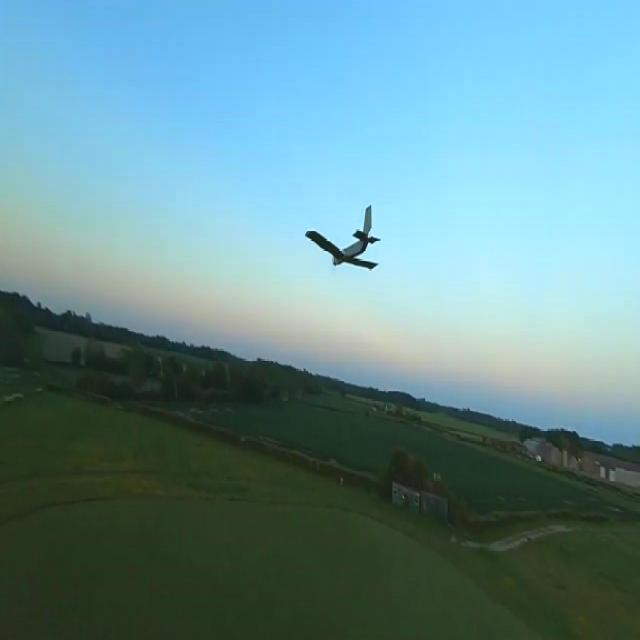iha: (336, 235, 350, 240)
